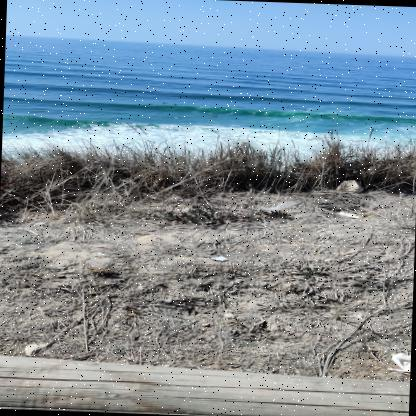Plastic film: (261, 201, 301, 212)
Unlabeled litter: (392, 353, 410, 373), (338, 212, 360, 219), (387, 368, 408, 373), (212, 256, 229, 261)
